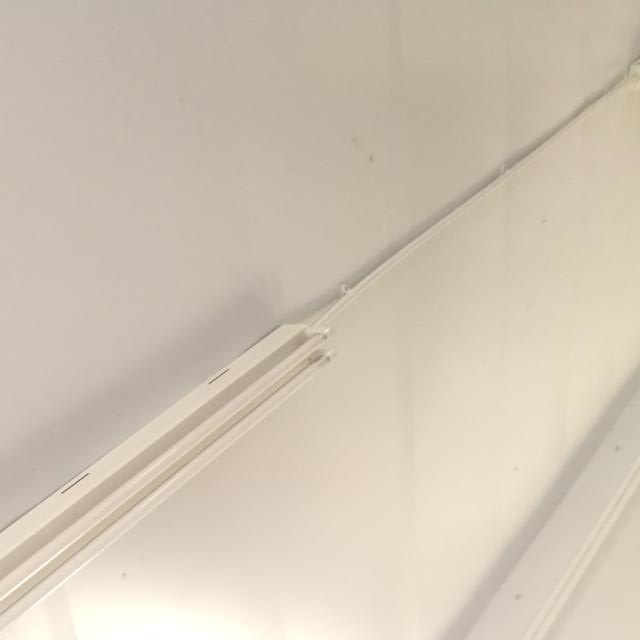fluorescent tube: (0, 278, 371, 640)
